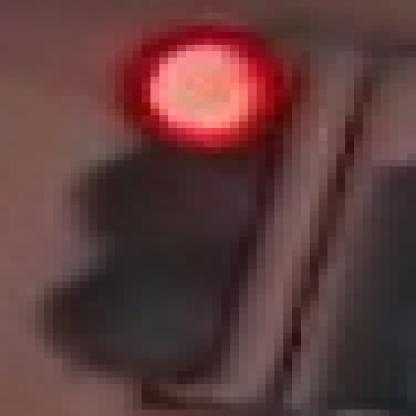Red Light: (79, 19, 294, 385)
